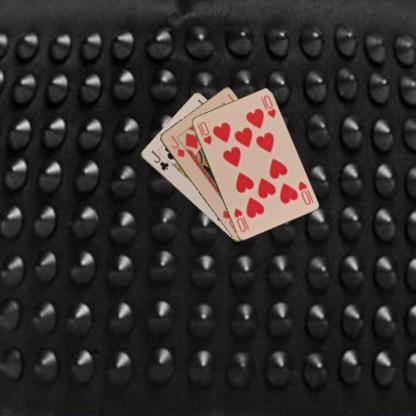10h: (194, 119, 212, 146), (296, 178, 312, 206)
Jc: (148, 148, 170, 172)
Jd: (168, 132, 186, 158)
